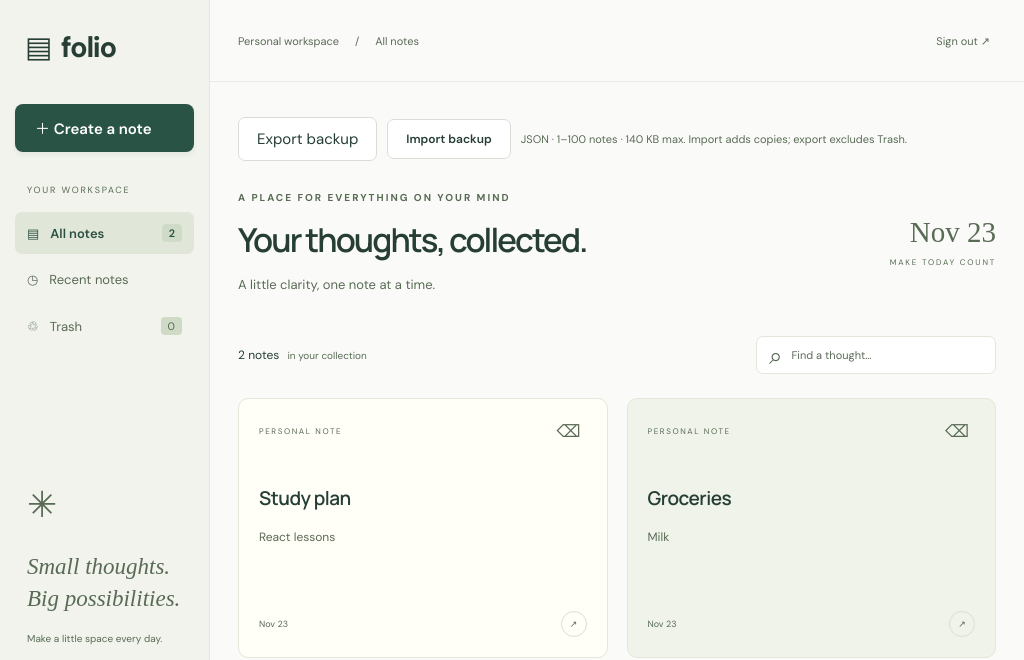
Test case: loads private notes, searches and requires confirmation before deletion
Expected: the heading "Study plan" is shown, top-left (259, 485), bottom-right (351, 511)
In the field named "Search notes": point(887, 355) top-left (792, 337), bottom-right (983, 373), type "React"
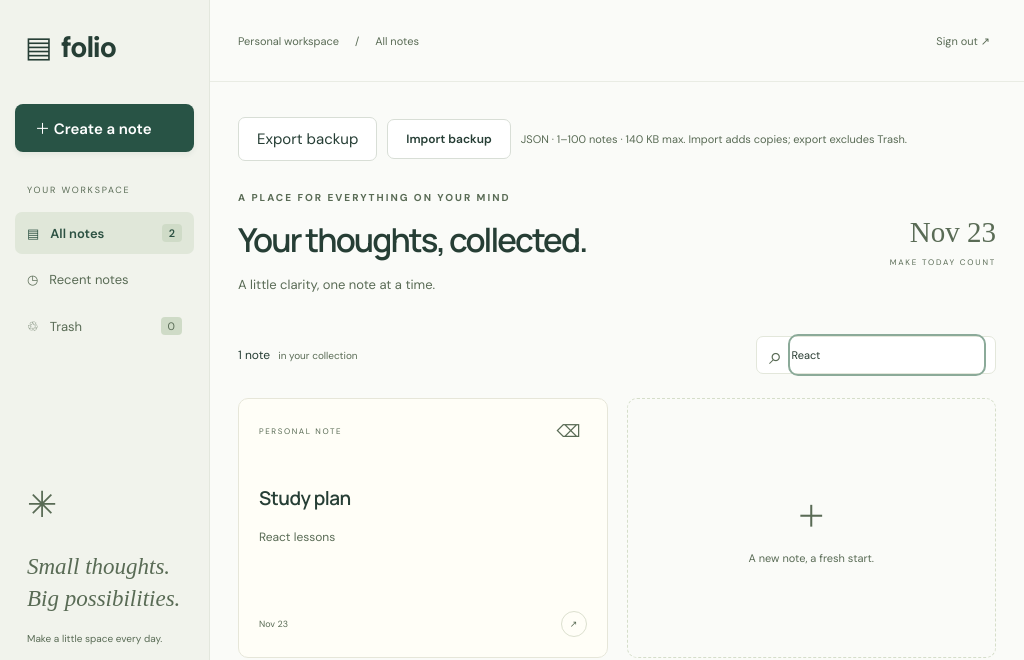
Now the button "Groceries" is gone
Click the button named "Delete Study plan": point(568, 431) top-left (550, 419), bottom-right (586, 443)
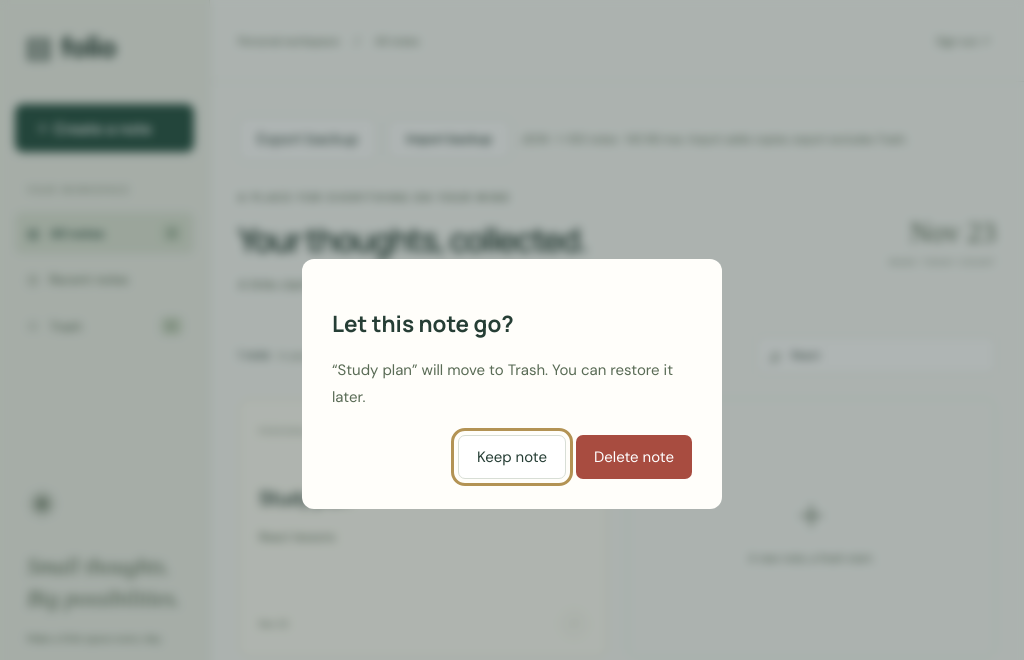
Now the dialog is shown, box top-left (302, 259), bottom-right (722, 509)
Click the button "Delete note": point(634, 457) top-left (576, 435), bottom-right (692, 479)
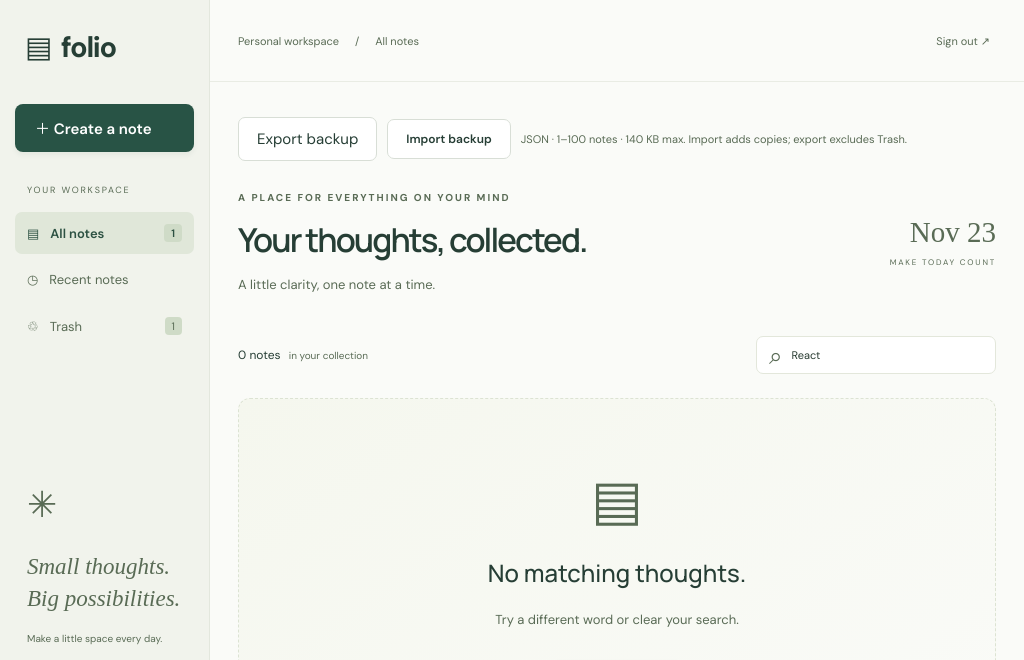
Now the button "Study plan" is gone
